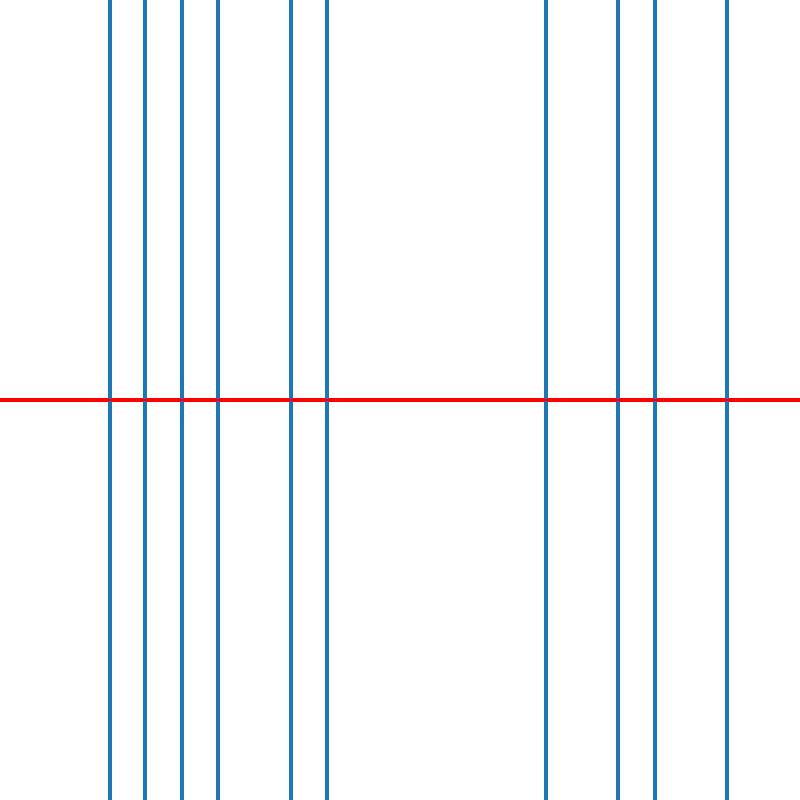root: (650, 396, 658, 404), (141, 396, 149, 404), (541, 396, 549, 404), (723, 396, 730, 404), (287, 396, 294, 404), (105, 396, 112, 404), (614, 396, 621, 404), (323, 396, 330, 404), (214, 396, 221, 404), (178, 396, 185, 404)
